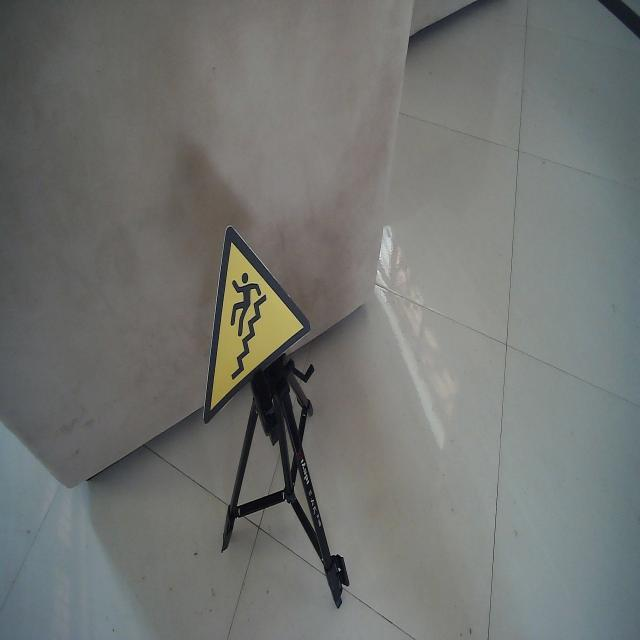stairs: (202, 222, 313, 427)
